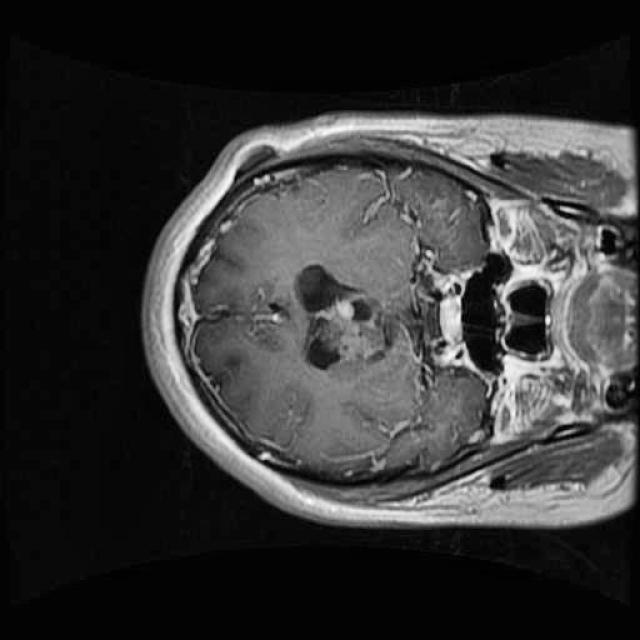Tumor: (324, 281, 408, 375)
